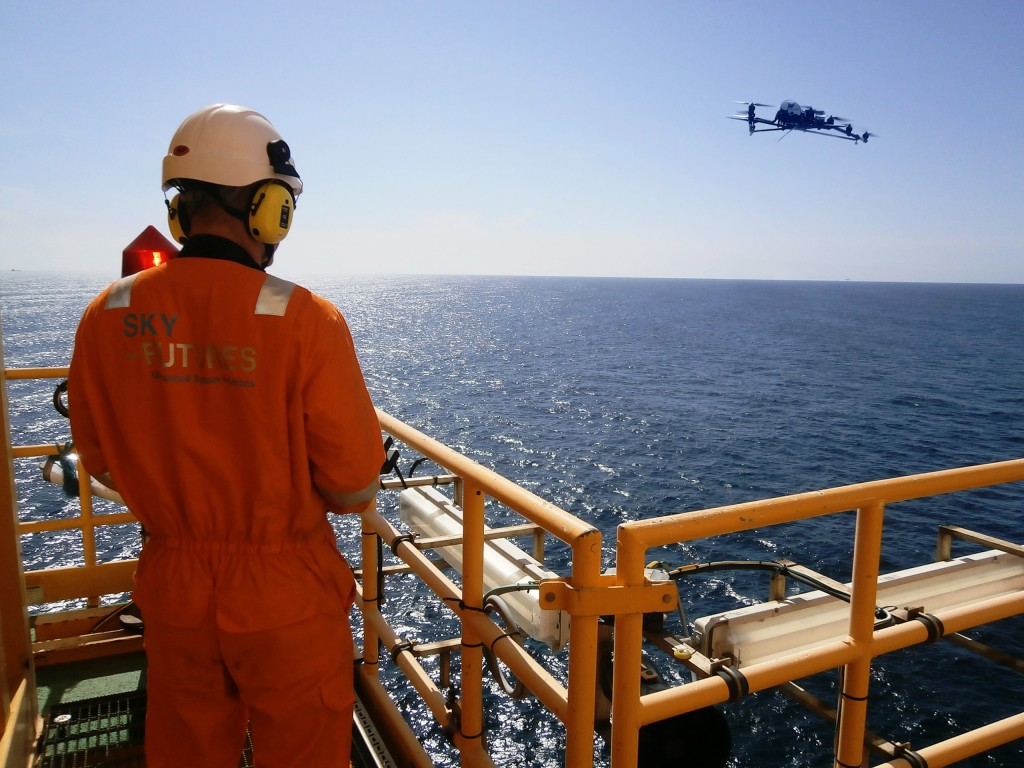drone: (723, 97, 885, 151)
person: (63, 100, 394, 768)
